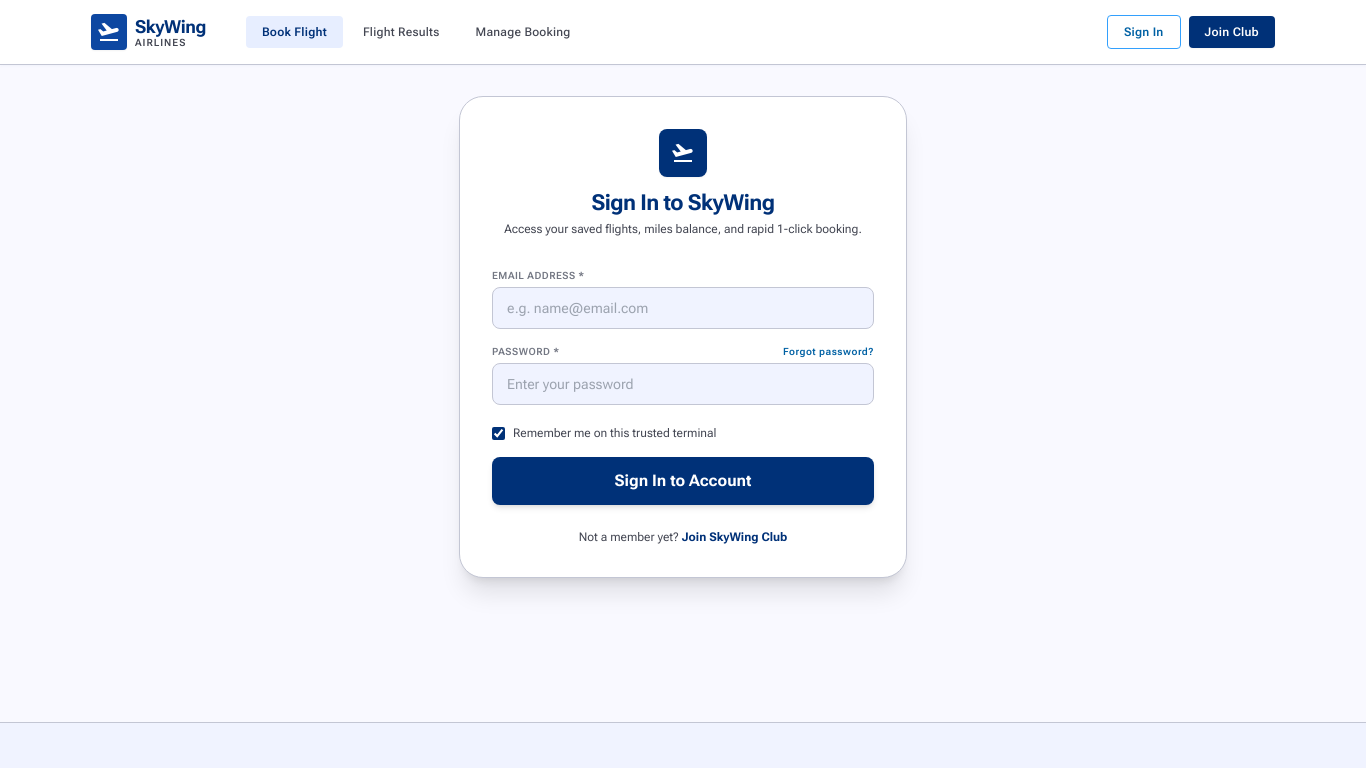
Test: SignInPage › displays error message when signIn fails
Type "wrong@test.com" into the field labelled "Email Address *" at (683, 308), box x1=492 y1=287 x2=874 y2=329
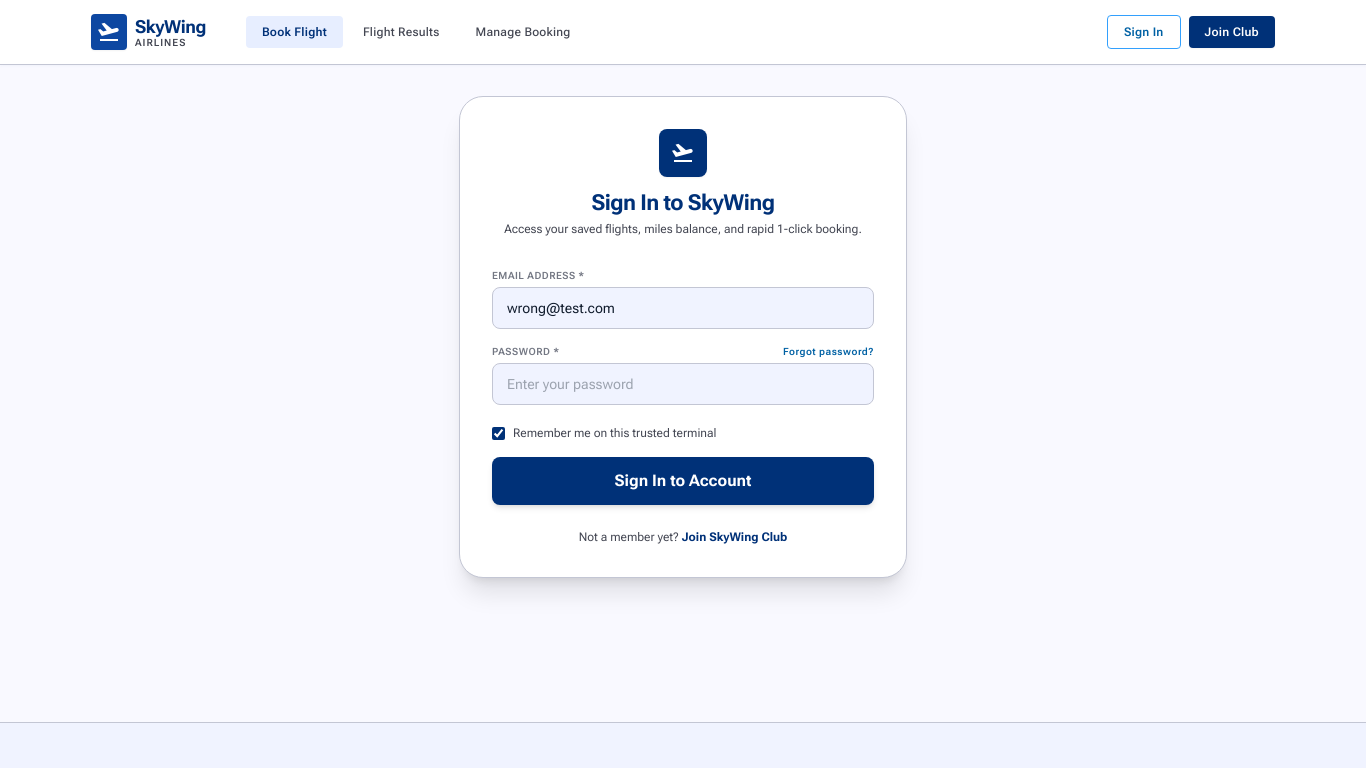
Type "wrongpass" into the password field labelled "Password *" at (683, 384), box x1=492 y1=363 x2=874 y2=405
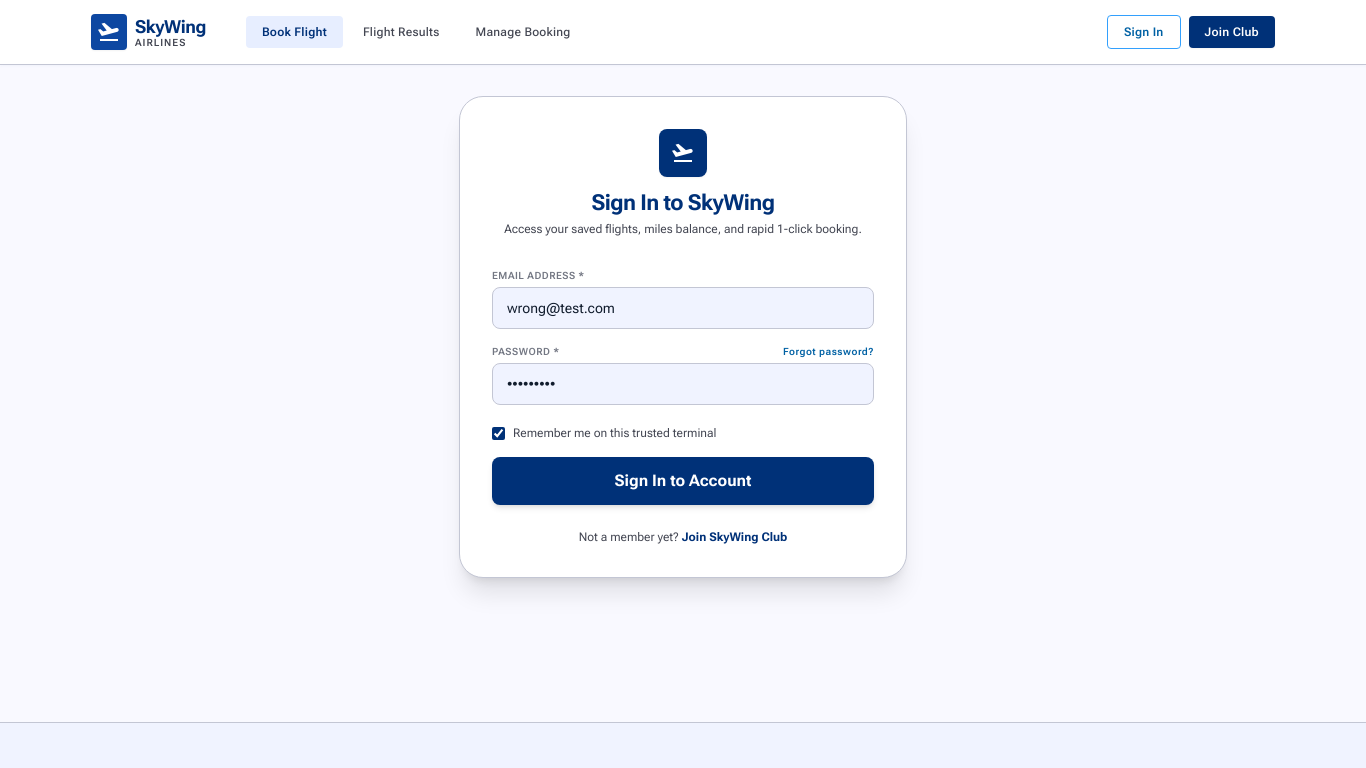
Click the button "Sign In to Account" at (683, 481), box x1=492 y1=457 x2=874 y2=505
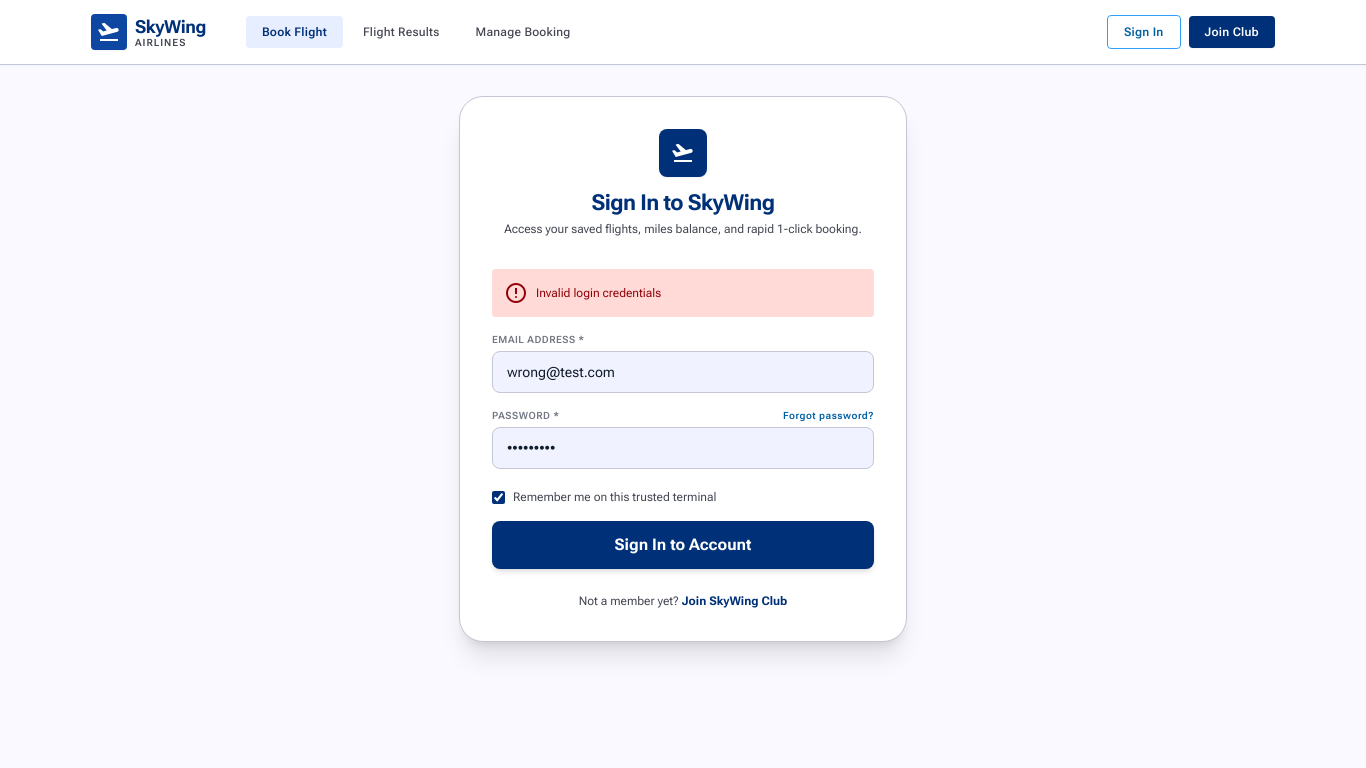
Expected: the text "Invalid login credentials" is shown, x1=536 y1=285 x2=661 y2=301
